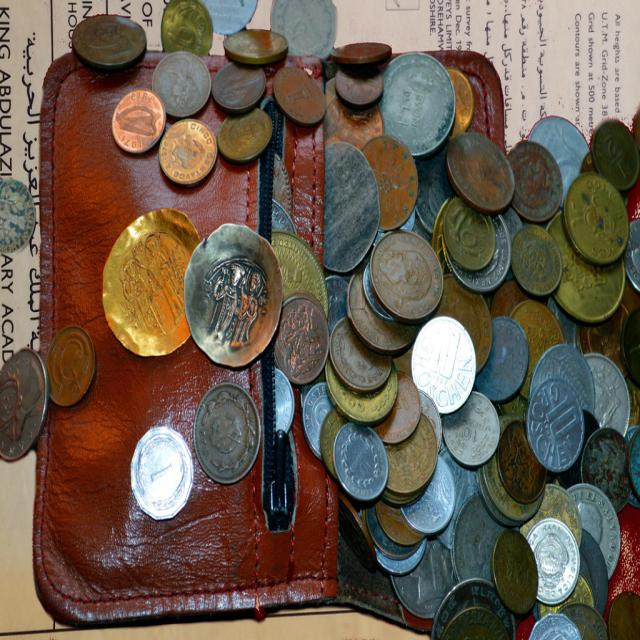Coin: (102, 0, 640, 639), (0, 347, 52, 465), (70, 11, 150, 67), (46, 330, 97, 410), (0, 168, 36, 256)
